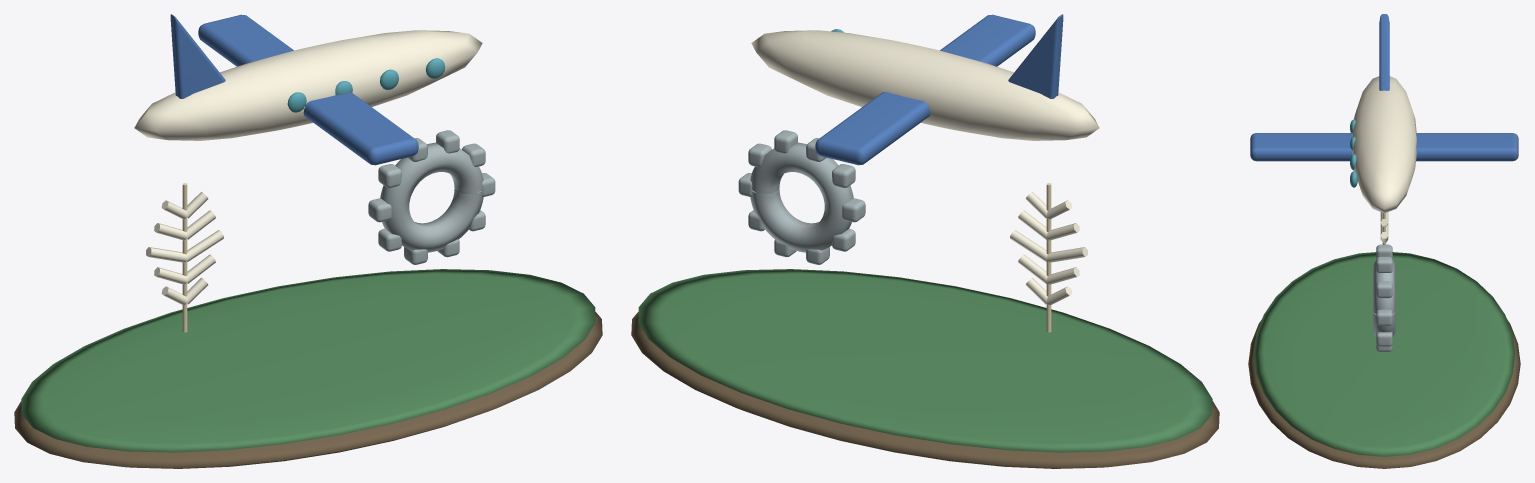
File: flying-machine.glb
The picture shows the model from 3 angles, left to right: view 1: azimuth 30°, elevation 25°; view 2: azimuth 150°, elevation 25°; view 3: azimuth 270°, elevation 25°; orthographic projection. The views are drawn at different scales.
Visible parts, largest first — view 1: flying-machine_surface_01, flying-machine_surface_03, flying-machine_surface_00, flying-machine_surface_05, flying-machine_surface_04, flying-machine_surface_06, flying-machine_surface_02; view 2: flying-machine_surface_01, flying-machine_surface_03, flying-machine_surface_00, flying-machine_surface_05, flying-machine_surface_04, flying-machine_surface_02; view 3: flying-machine_surface_01, flying-machine_surface_03, flying-machine_surface_05, flying-machine_surface_00, flying-machine_surface_04, flying-machine_surface_06.
Part boxes in pixels (x1,y1,x2,y2): flying-machine_surface_01: (21,269,595,452); flying-machine_surface_03: (134,30,482,305); flying-machine_surface_00: (14,312,602,468); flying-machine_surface_05: (170,14,418,165); flying-machine_surface_04: (368,130,495,264); flying-machine_surface_06: (287,58,445,112); flying-machine_surface_02: (182,183,187,332); flying-machine_surface_01: (638,269,1212,452); flying-machine_surface_03: (751,30,1099,305); flying-machine_surface_00: (631,312,1219,468); flying-machine_surface_05: (815,14,1063,165); flying-machine_surface_04: (738,130,865,264); flying-machine_surface_02: (1046,183,1051,332); flying-machine_surface_01: (1253,252,1515,456); flying-machine_surface_03: (1352,76,1416,242); flying-machine_surface_05: (1250,14,1518,161); flying-machine_surface_00: (1248,319,1520,468); flying-machine_surface_04: (1373,244,1395,351); flying-machine_surface_06: (1350,119,1357,187).
Size of the model in its own units: 4.56 by 3.16 by 2.5.
